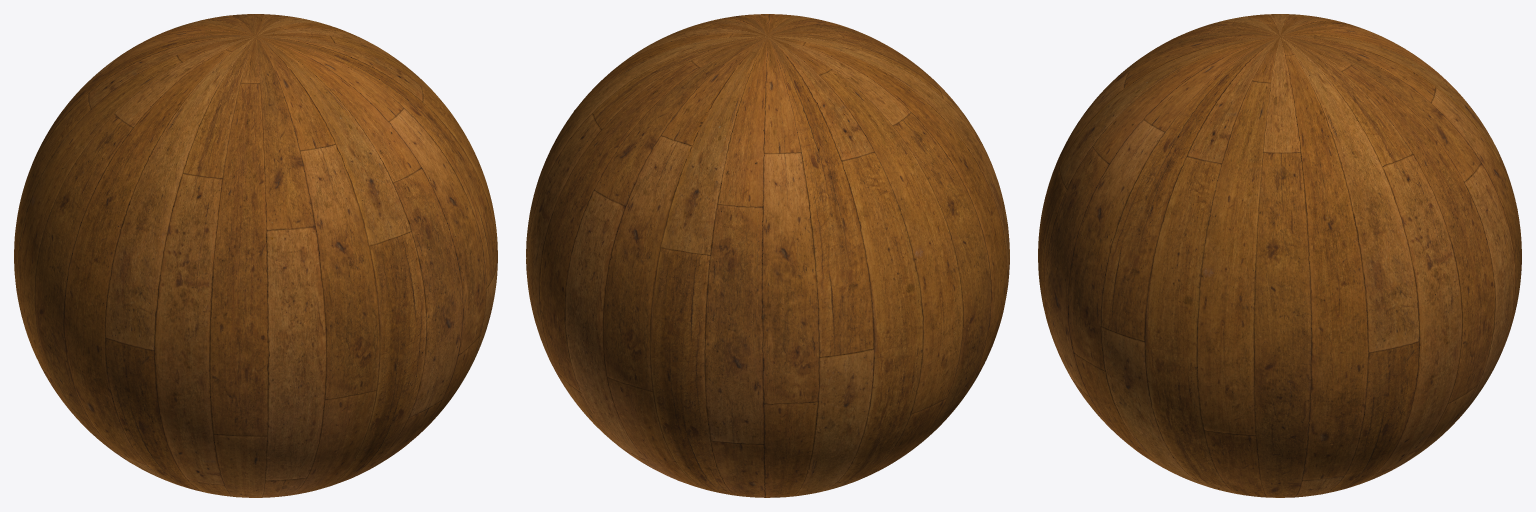
File: old_wooden_floor_03_4k.gltf
3 renders of one model, left to right at view 1: azimuth 30°, elevation 25°; view 2: azimuth 150°, elevation 25°; view 3: azimuth 270°, elevation 25°, orthographic.
Parts seen in each view (by area): view 1: sphere_gltf; view 2: sphere_gltf; view 3: sphere_gltf.
Boxes of the visible parts, box(x1,y1,x2,y2) form: sphere_gltf: box(14, 14, 497, 497); sphere_gltf: box(526, 14, 1009, 497); sphere_gltf: box(1038, 14, 1521, 497).
Bounding box in the file's own units: 1.17 × 1.17 × 1.17.
1 material, 1 textured.
